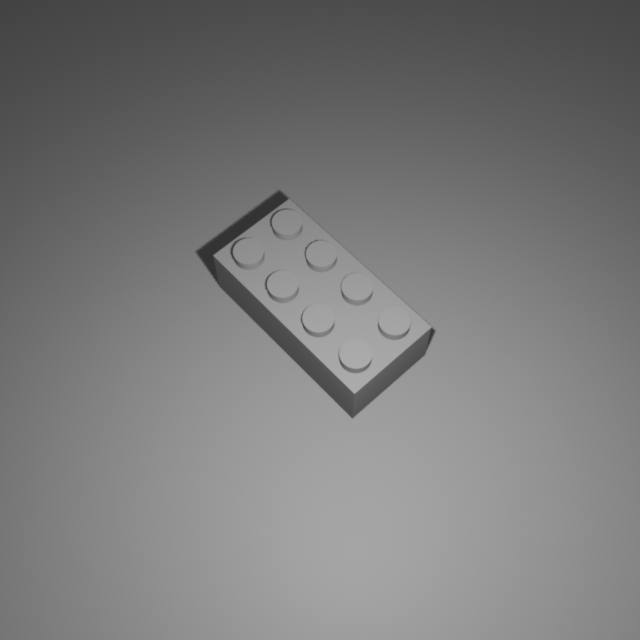lego_2x4: (212, 193, 433, 419)
